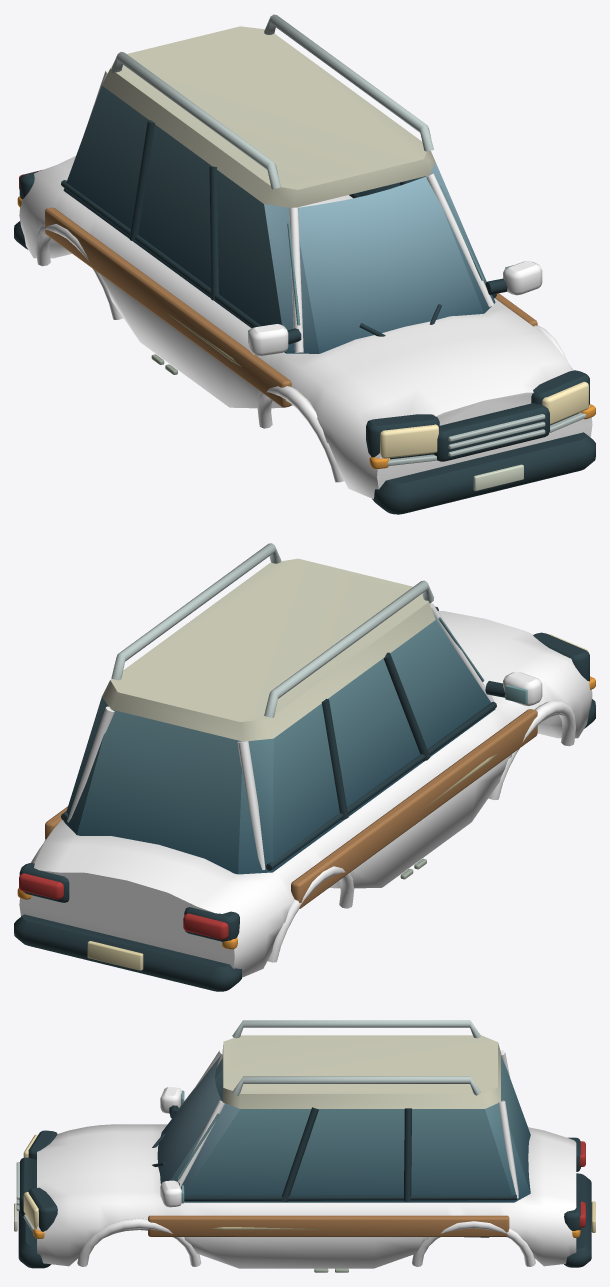
Rendered from coast.glb.
3 views of the same model, one above another, from view 1: azimuth 30°, elevation 25°; view 2: azimuth 150°, elevation 25°; view 3: azimuth 270°, elevation 25° (orthographic). The views are drawn at different scales.
Parts seen in each view (by area): view 1: Chassis, Headlamps; view 2: Chassis, BrakeLamps; view 3: Chassis, Headlamps.
Boxes of the visible parts, x1,y1,x2,y2 form: Chassis: (14, 14, 595, 514); Headlamps: (380, 381, 588, 458); Chassis: (14, 543, 595, 991); BrakeLamps: (19, 873, 228, 939); Chassis: (14, 1020, 595, 1272); Headlamps: (23, 1134, 38, 1228).
Size of the model in its own units: 1.71 by 1.37 by 3.95.
